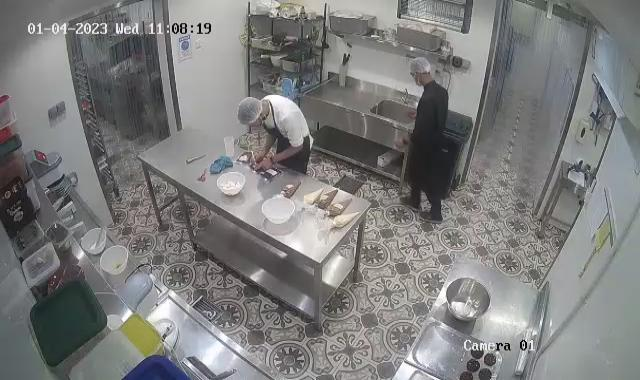hairnet: (236, 96, 265, 124), (407, 56, 433, 78)
